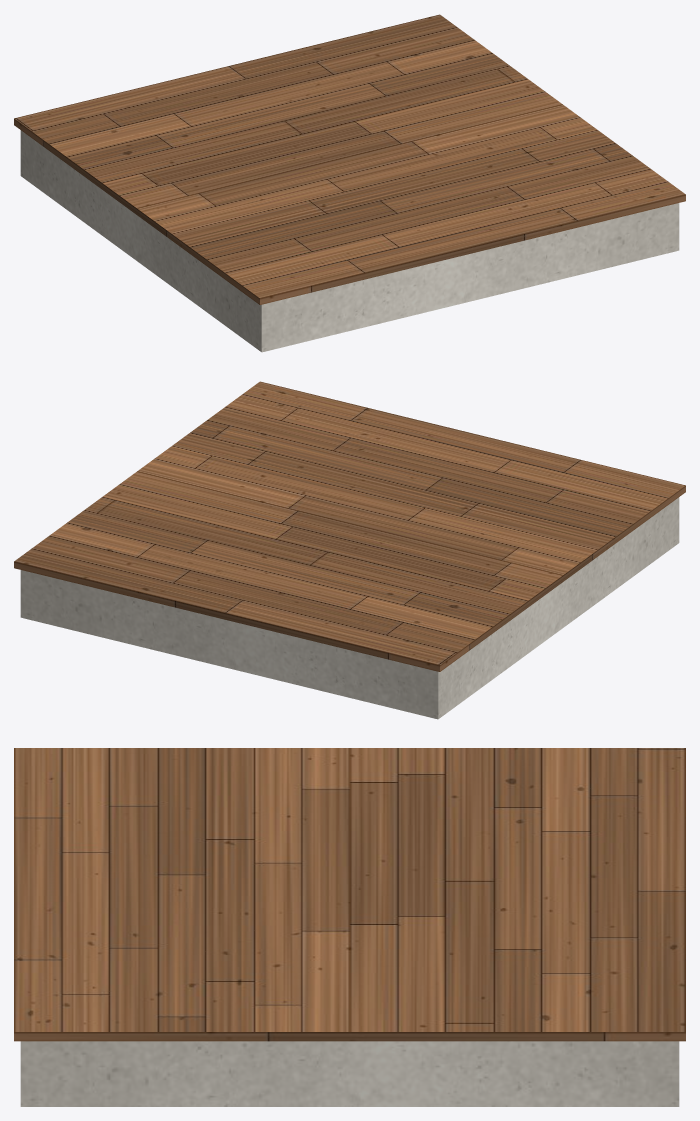
File: floor_floor_u.glb
The picture shows the model from 3 angles, top to bottom: view 1: azimuth 30°, elevation 25°; view 2: azimuth 150°, elevation 25°; view 3: azimuth 270°, elevation 25°; orthographic projection. The views are drawn at different scales.
Visible parts, largest first — view 1: floor_floor_u_floor, floor_floor_u_plaster; view 2: floor_floor_u_floor, floor_floor_u_plaster; view 3: floor_floor_u_floor, floor_floor_u_plaster.
Part boxes in pixels (x1,y1,x2,y2): floor_floor_u_floor: [14, 14, 685, 304]; floor_floor_u_plaster: [20, 130, 679, 352]; floor_floor_u_floor: [14, 381, 685, 671]; floor_floor_u_plaster: [20, 497, 679, 719]; floor_floor_u_floor: [14, 748, 685, 1041]; floor_floor_u_plaster: [20, 1041, 679, 1106].
Size of the model in its own units: 2 by 0.255 by 2.
Materials: 2 (2 with a texture image).
